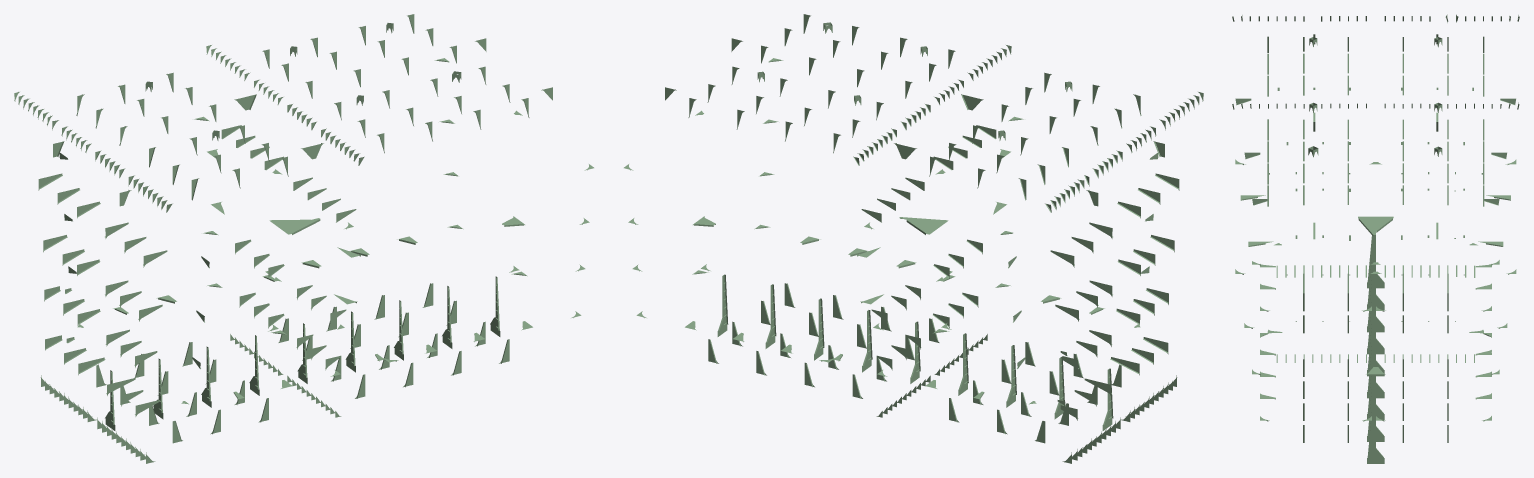
The model's file is NO_5_CENTRAL_CARGO_OIL_TK.glb.
The picture shows the model from 3 angles, left to right: view 1: azimuth 30°, elevation 25°; view 2: azimuth 150°, elevation 25°; view 3: azimuth 270°, elevation 25°; orthographic projection. The views are drawn at different scales.
Parts seen in each view (by area): view 1: no part large enough to name; view 2: no part large enough to name; view 3: PL_CenterBHDBracketxNo5CenterTank_004001-12.5_NVA_1993.
Part boxes in pixels (<box>): PL_CenterBHDBracketxNo5CenterTank_004001-12.5_NVA_1993: <box>1367,410,1375,463</box>.
Size of the model in its own units: 47.16 by 31.5 by 29.05.
